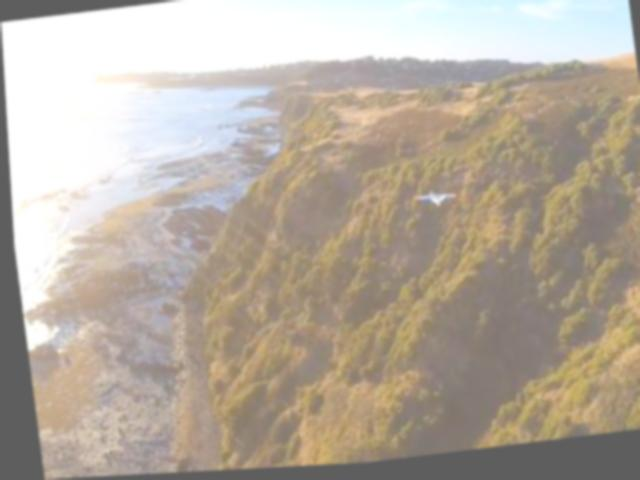uav: (409, 188, 457, 217)
